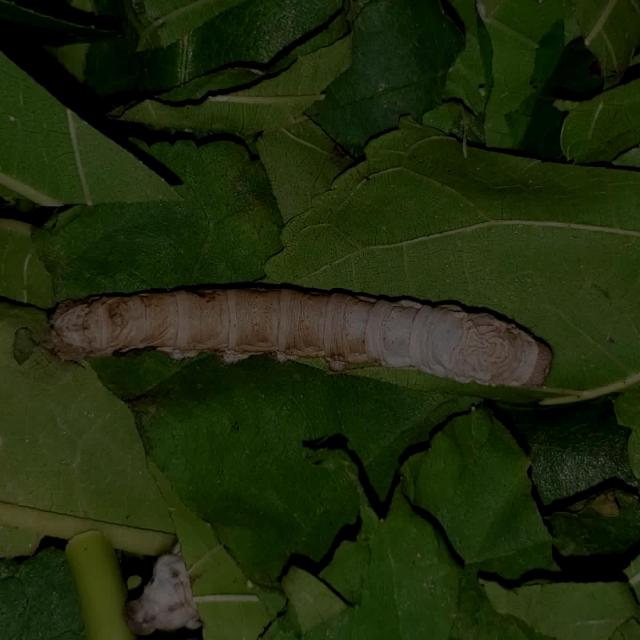Grasserie: (41, 264, 566, 412)
